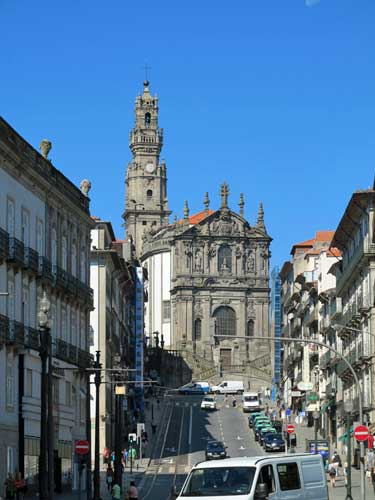clerigos: (122, 62, 173, 258)
